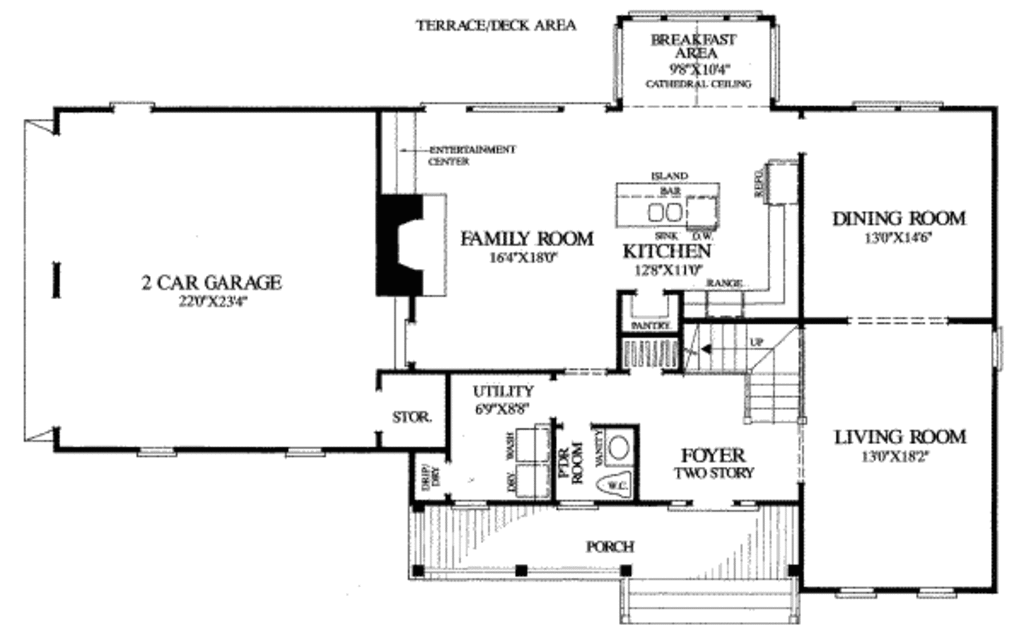kitchen_bar: (612, 180, 725, 233)
large_sink: (589, 469, 635, 497)
small_sink: (601, 423, 633, 468)
stairs: (682, 321, 803, 424)
window: (623, 4, 762, 24), (843, 97, 946, 116), (764, 23, 784, 105), (610, 22, 627, 104), (830, 582, 880, 602), (987, 324, 1006, 374), (128, 445, 178, 463), (281, 444, 326, 460), (915, 585, 956, 601), (554, 497, 598, 511), (445, 499, 488, 511)
